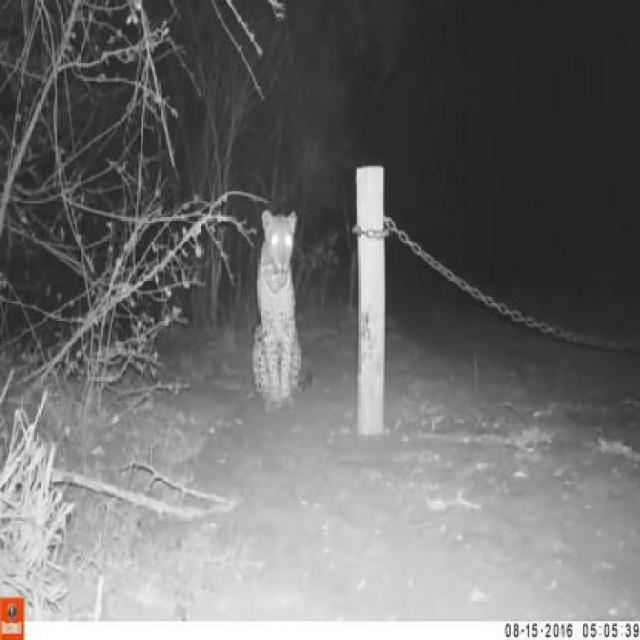Leopard: (236, 147, 324, 387)
